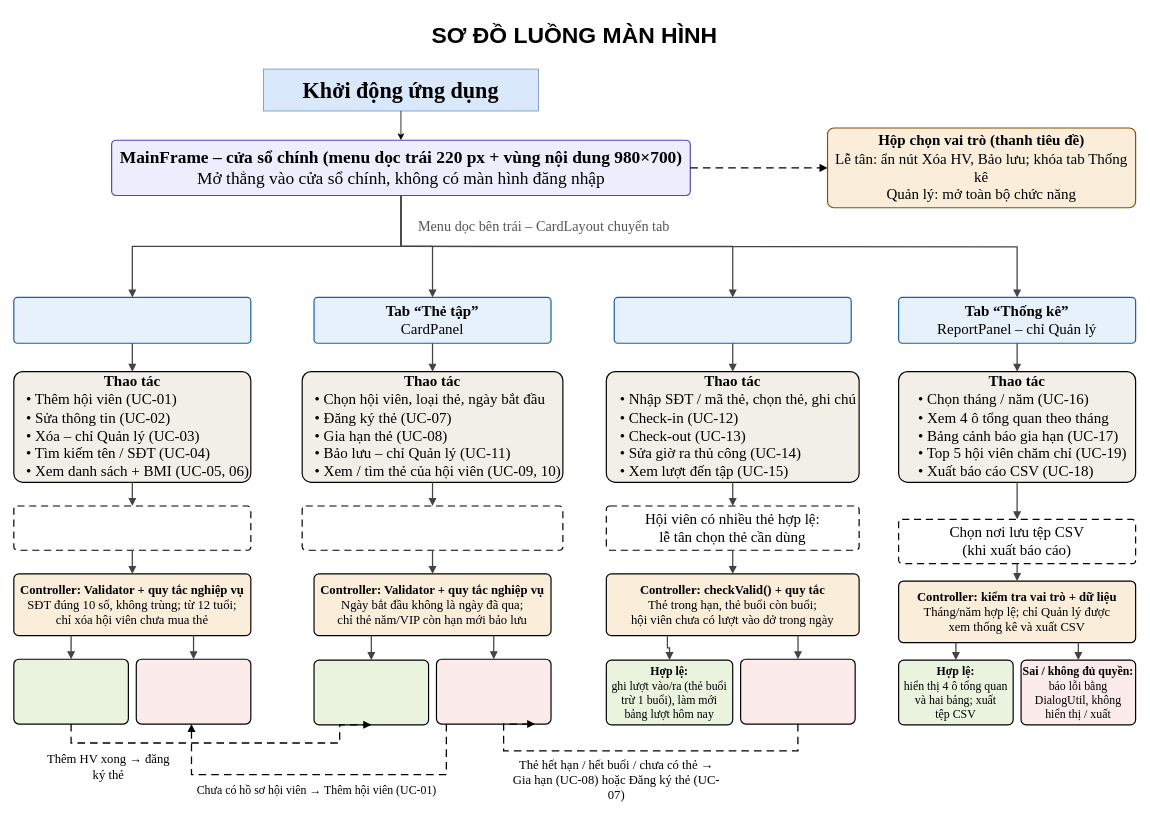
Some shapes in this 1150 by 816 pixel diagram are drawn without their labels. Each missing label, with the box of its shape:
Bị từ chối: CardExpired / OutOf- Session / chưa check- out; nêu rõ lý do: (740, 658, 855, 724)
Hộp thoại xác nhận (DialogUtil) trước khi Xóa hội viên: (13, 505, 251, 550)
Hợp lệ: sinh mã HV, tính BMI, lưu CSDL, làm mới danh sách: (13, 658, 129, 724)
Hợp lệ: tạo thẻ (CardFactory), lưu CSDL, hiện thẻ trong bảng thẻ: (313, 659, 429, 725)
Sai / vi phạm: Invalid/Duplicate- DataException, nêu rõ trường sai: (135, 658, 251, 724)
Sai / vi phạm: InvalidDataException, báo lỗi, không tạo thẻ / không bảo lưu: (436, 658, 551, 724)
Tab “Check-in/Check-out” CheckInPanel: (613, 296, 851, 343)
Tab “Hội viên” MemberPanel: (13, 296, 251, 343)
Xác nhận gia hạn (hiện ngày bắt đầu mới) hoặc nhập số ngày bảo lưu: (301, 505, 563, 550)
